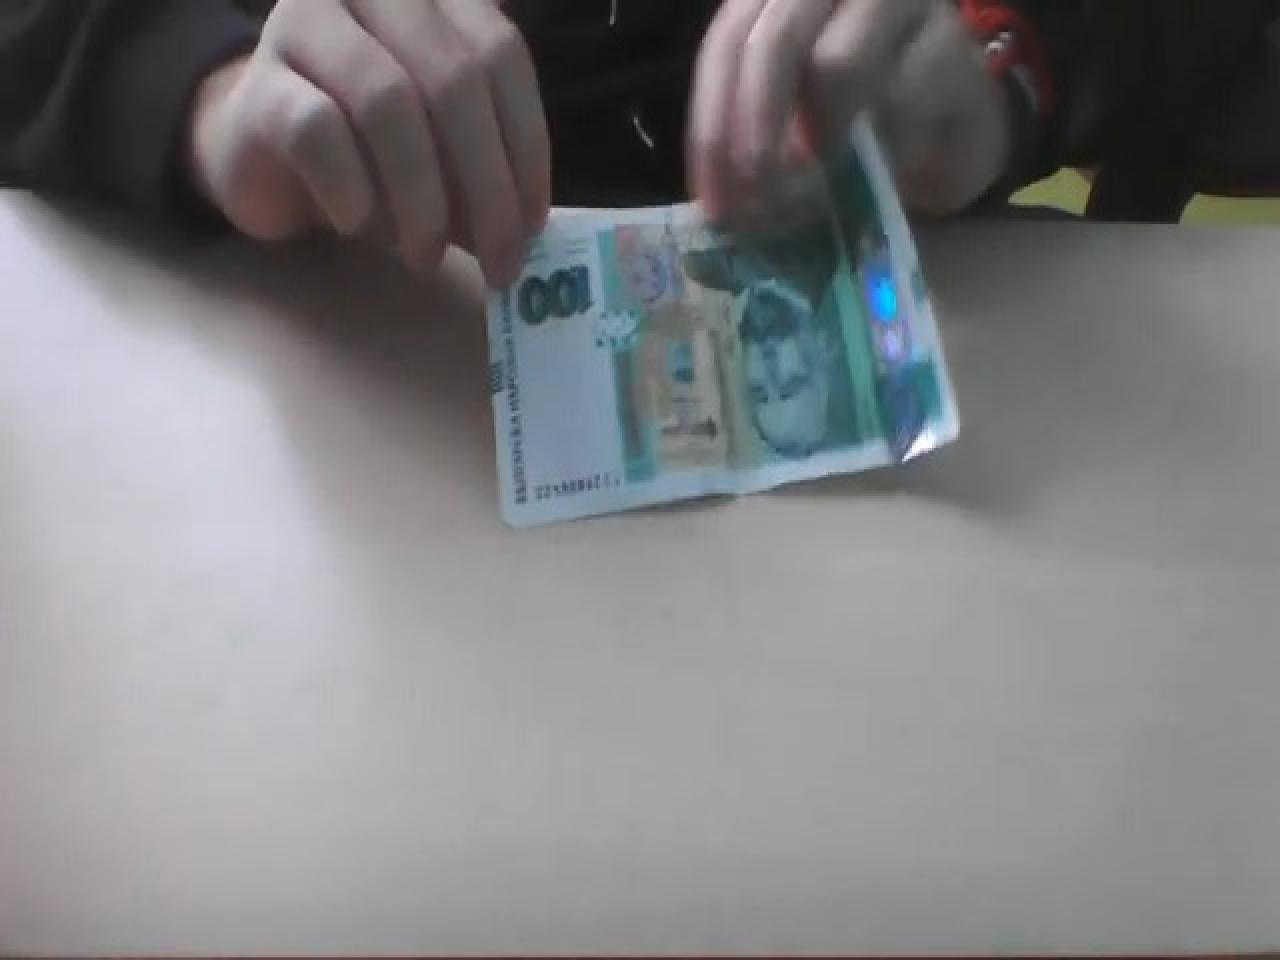100leva: (484, 136, 959, 530)
